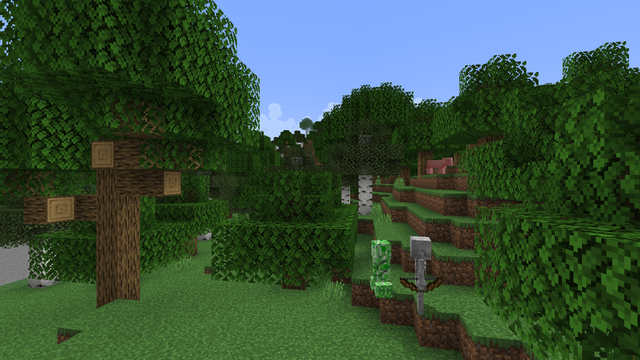cochons: (427, 159, 445, 173)
creepers: (371, 237, 391, 297)
squelettes: (407, 236, 434, 317)
